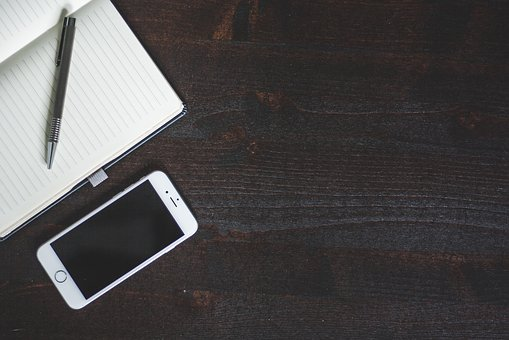mobile: (28, 159, 203, 313)
